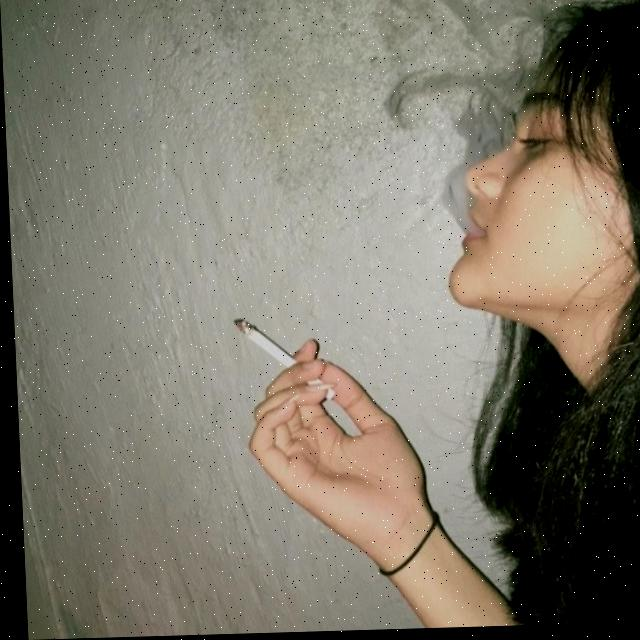cigarette: (230, 318, 332, 405)
